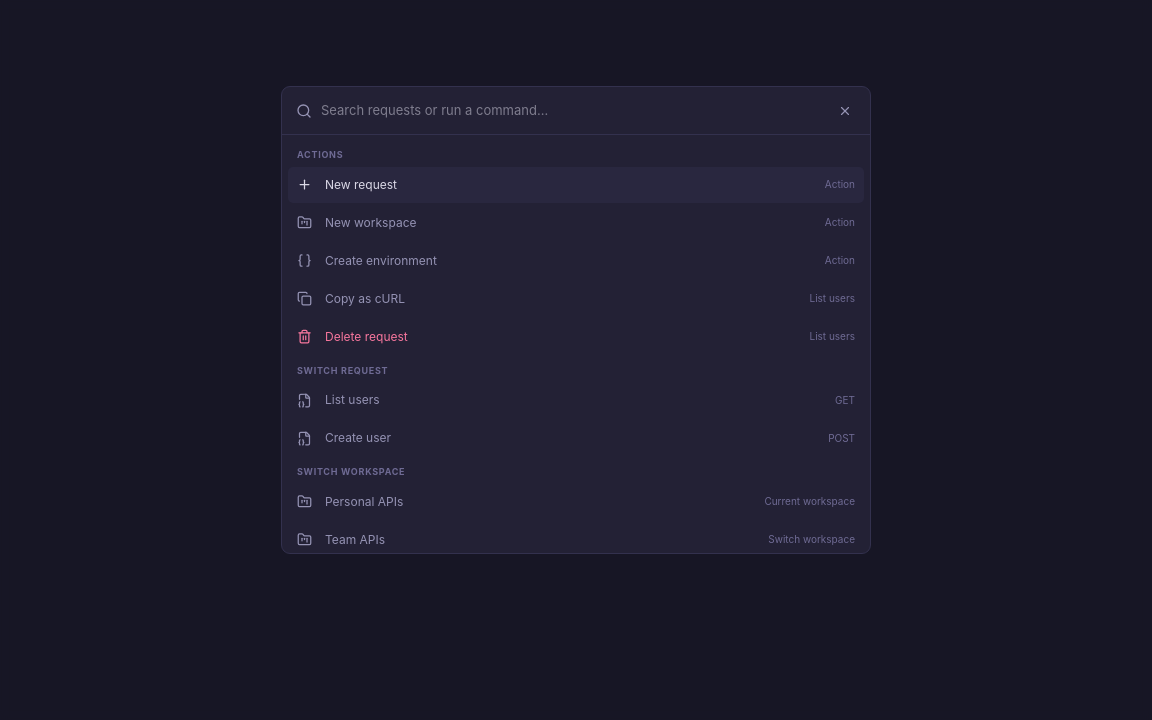
it: CommandDialog › shows an error toast when copying cURL fails
Click the button "Copy as cURL List users". click: (365, 298)
box: [288,281,864,317]
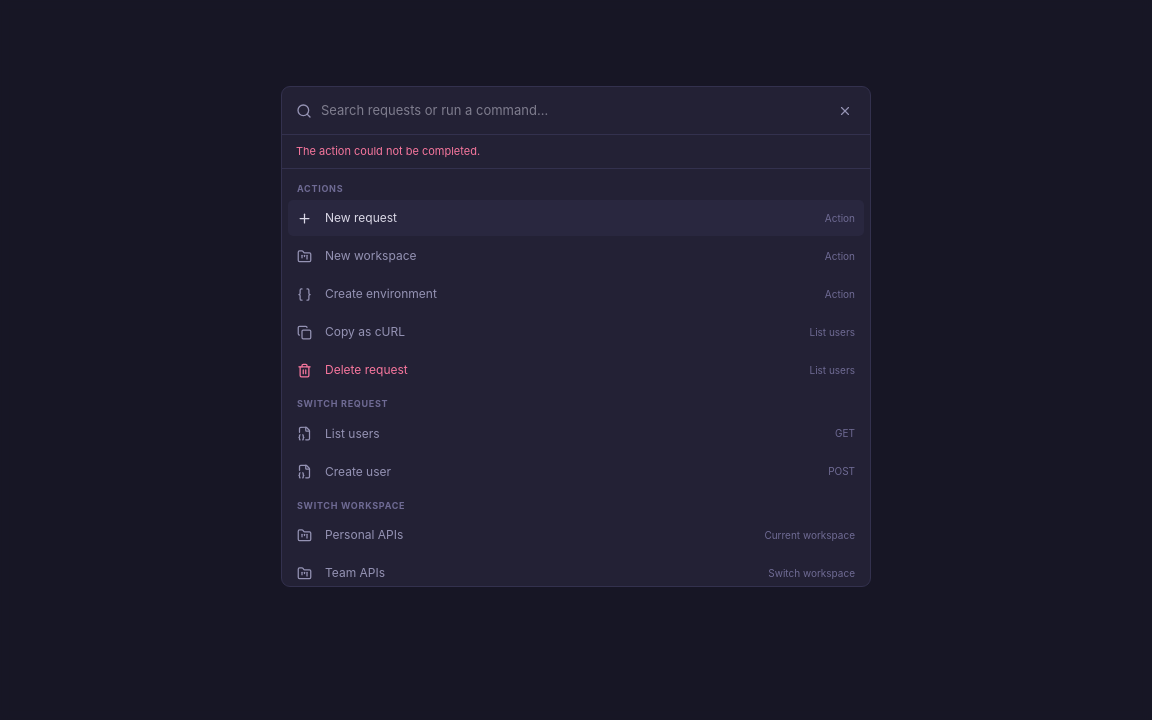
Expected: the text "The action could not be completed." is shown, [282,135,870,169]
